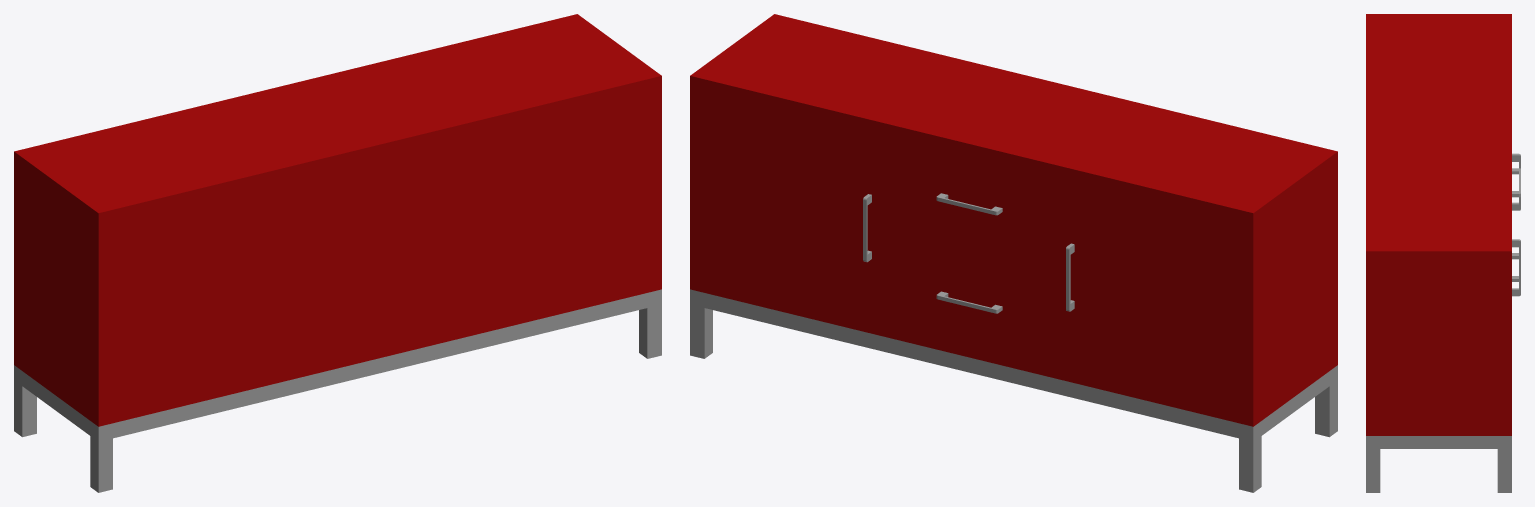
The picture shows the model from 3 angles, left to right: view 1: azimuth 30°, elevation 25°; view 2: azimuth 150°, elevation 25°; view 3: azimuth 270°, elevation 25°; orthographic projection. The views are drawn at different scales.
Visible parts, largest first — view 1: mesh9_mesh9-geometry, mesh11_mesh11-geometry; view 2: mesh9_mesh9-geometry, mesh11_mesh11-geometry; view 3: mesh9_mesh9-geometry, mesh11_mesh11-geometry, mesh3_mesh3-geometry.
Boxes of the visible parts, box(x1,y1,x2,y2) form: mesh9_mesh9-geometry: box(14, 14, 661, 426); mesh11_mesh11-geometry: box(14, 289, 661, 492); mesh9_mesh9-geometry: box(690, 14, 1337, 426); mesh11_mesh11-geometry: box(690, 289, 1337, 492); mesh9_mesh9-geometry: box(1366, 14, 1511, 435); mesh11_mesh11-geometry: box(1366, 436, 1511, 492); mesh3_mesh3-geometry: box(1512, 239, 1520, 296).
Bounding box in the file's own units: 0.8767 × 0.4159 × 0.2417.
